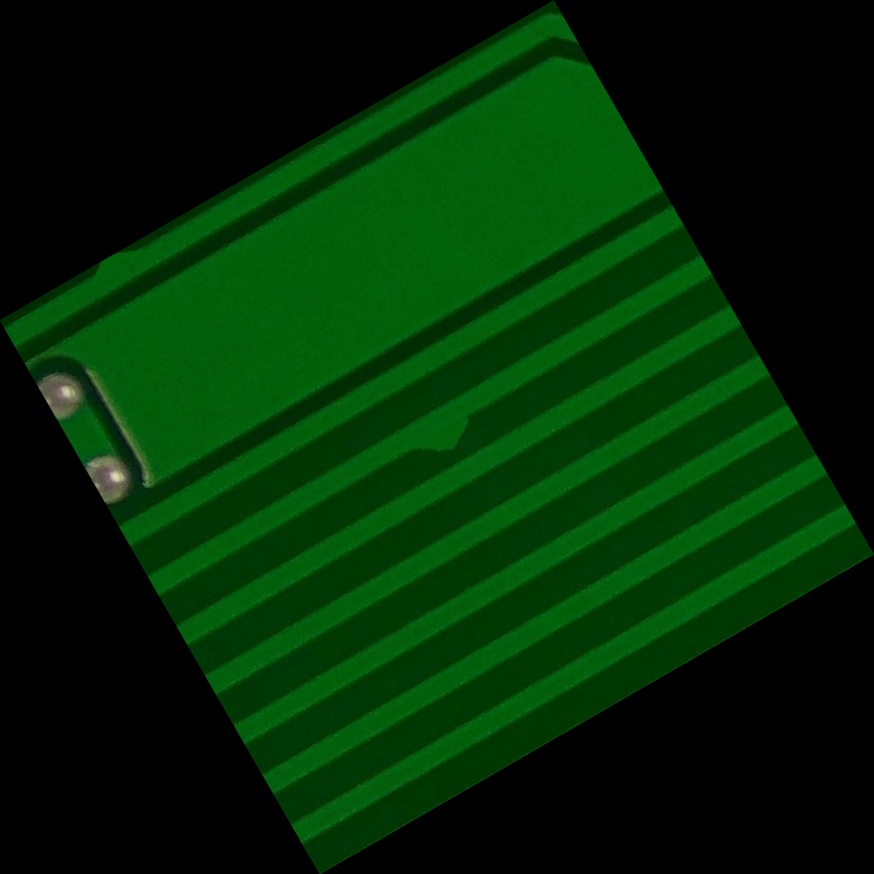spur: (375, 383, 499, 492)
